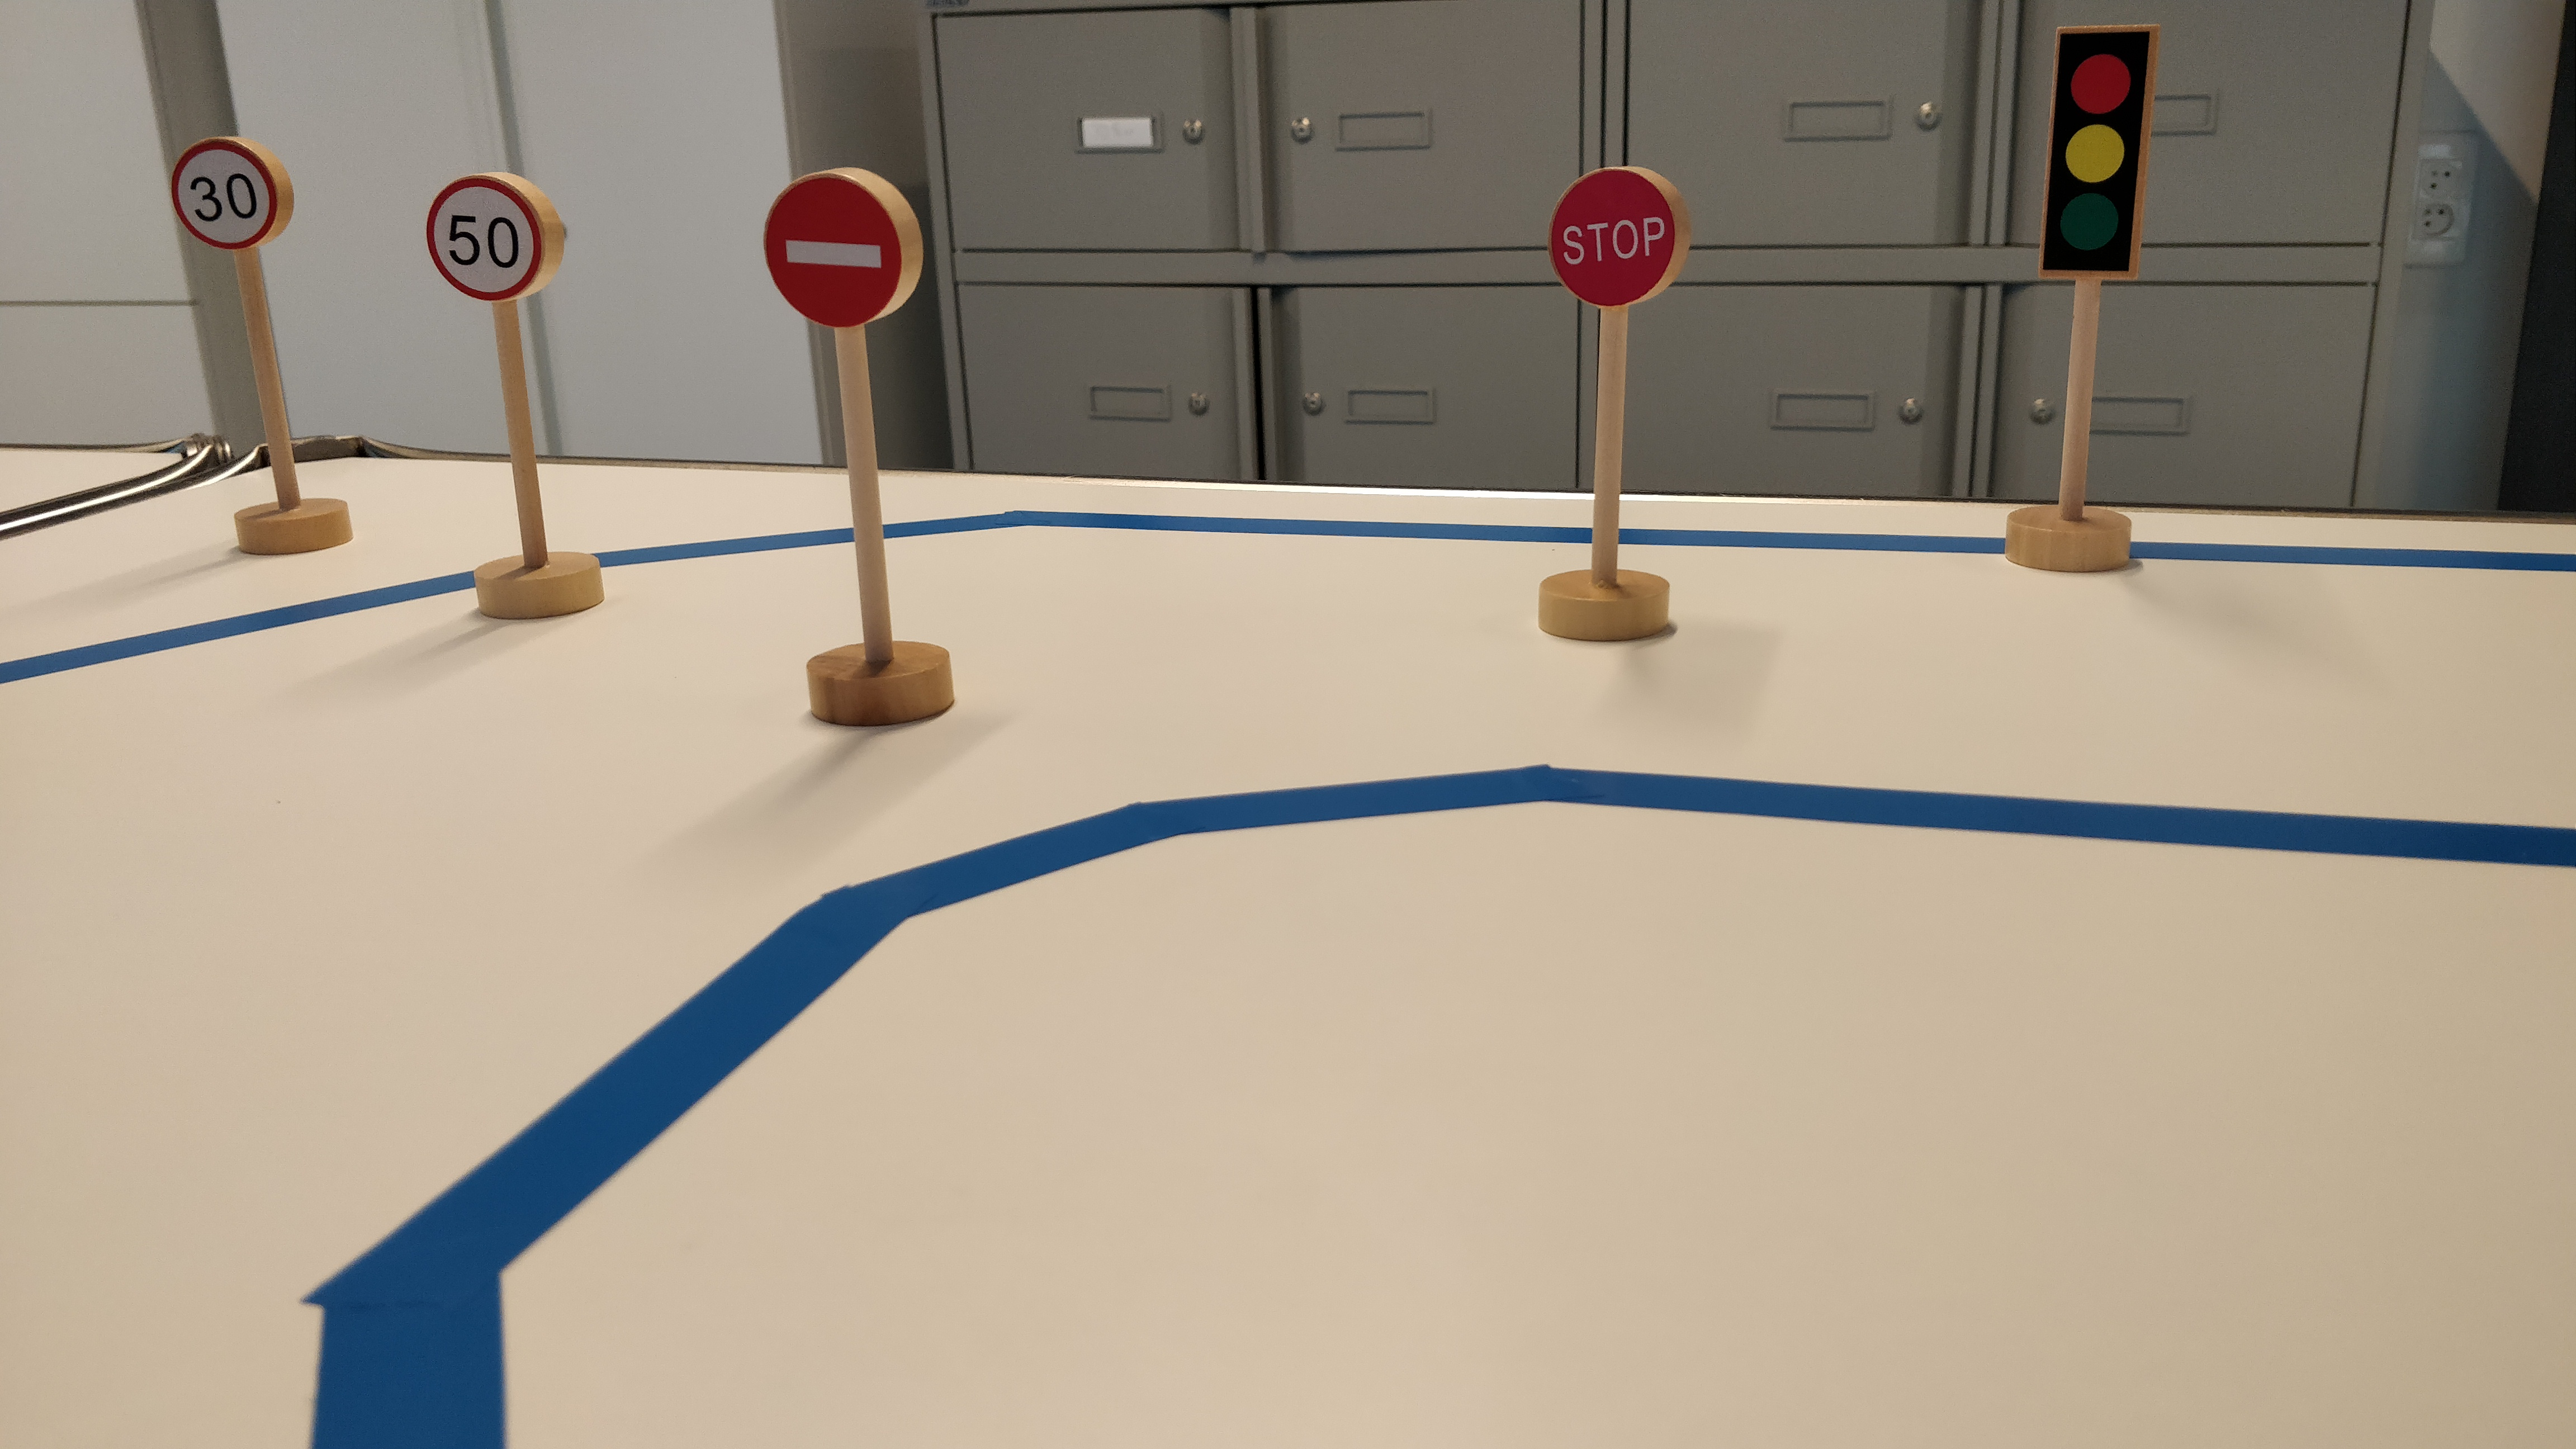Prohibition Sign: (760, 160, 930, 330)
Speed Limit 30: (167, 131, 302, 254)
Speed Limit 50: (425, 168, 567, 307)
Stop Sign: (1546, 159, 1693, 309)
Traffic Light: (2033, 18, 2161, 285)
